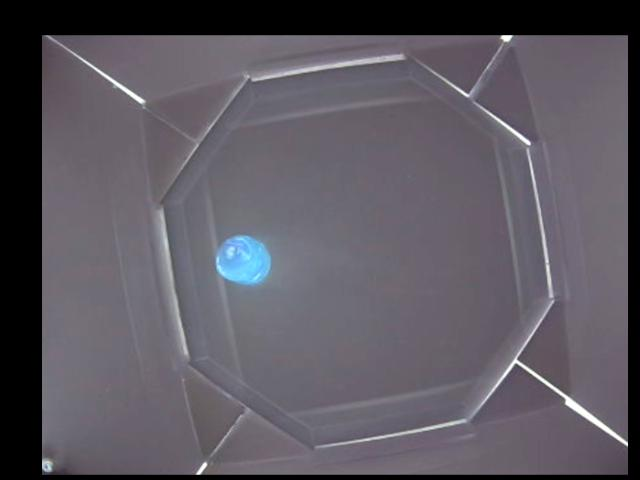Carrot: (213, 233, 271, 285)
